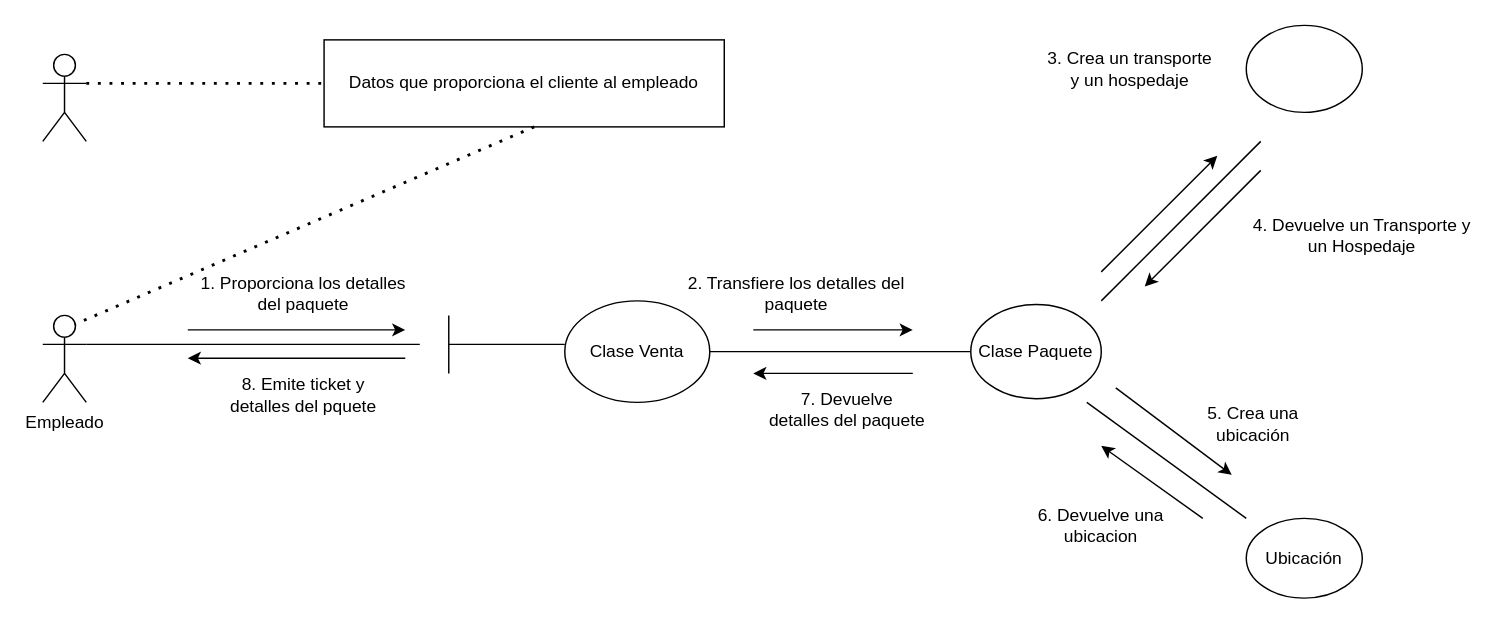
Some shapes in this 1502 by 624 pixel diagram are drawn without their labels. The shapes that lost their labels are listed below. From the top down, each one's centre as x and y in pixels, then its label:
At point 1303,68: ": Transporte y Hospedaje".
At point 63,97: "Cliente".
